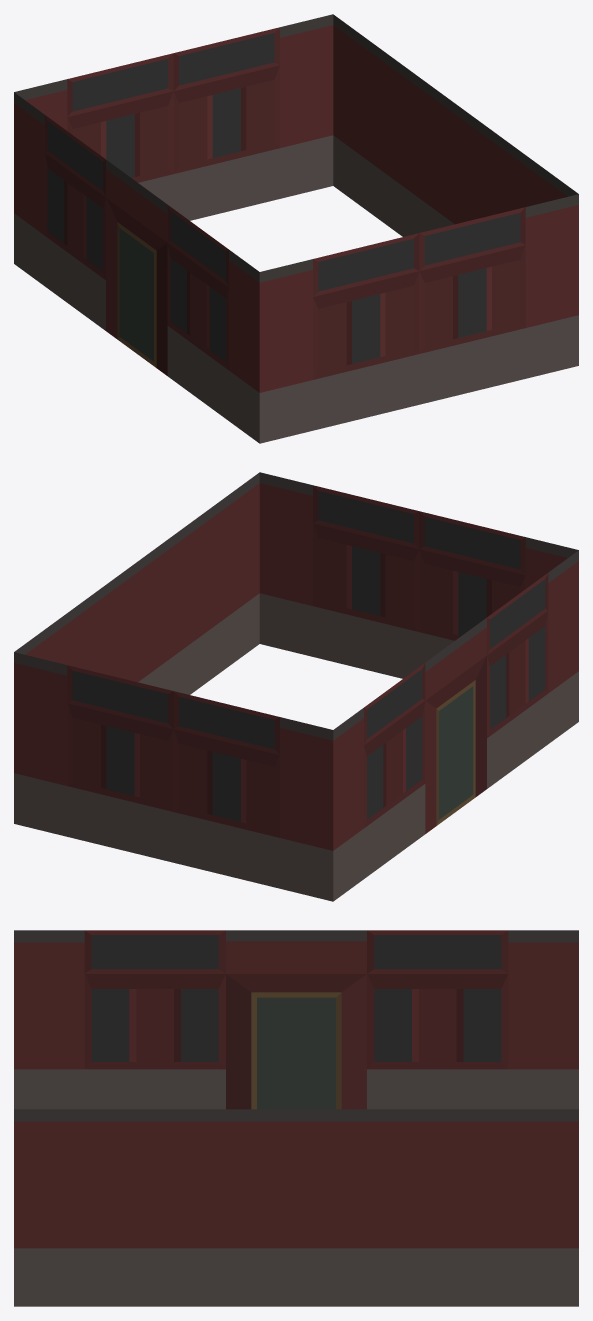
Rendered from BuildingA-Sm_BLOD2.fbx.
The picture shows the model from 3 angles, top to bottom: view 1: azimuth 30°, elevation 25°; view 2: azimuth 150°, elevation 25°; view 3: azimuth 270°, elevation 25°; orthographic projection. The views are drawn at different scales.
Parts seen in each view (by area): view 1: BuildingA-Sm_BLOD2; view 2: BuildingA-Sm_BLOD2; view 3: BuildingA-Sm_BLOD2.
Boxes of the visible parts, bbox=[...] form: BuildingA-Sm_BLOD2: bbox=[14, 14, 578, 443]; BuildingA-Sm_BLOD2: bbox=[14, 472, 578, 901]; BuildingA-Sm_BLOD2: bbox=[14, 930, 578, 1306].
Size of the model in its own units: 750 by 386 by 1000.
